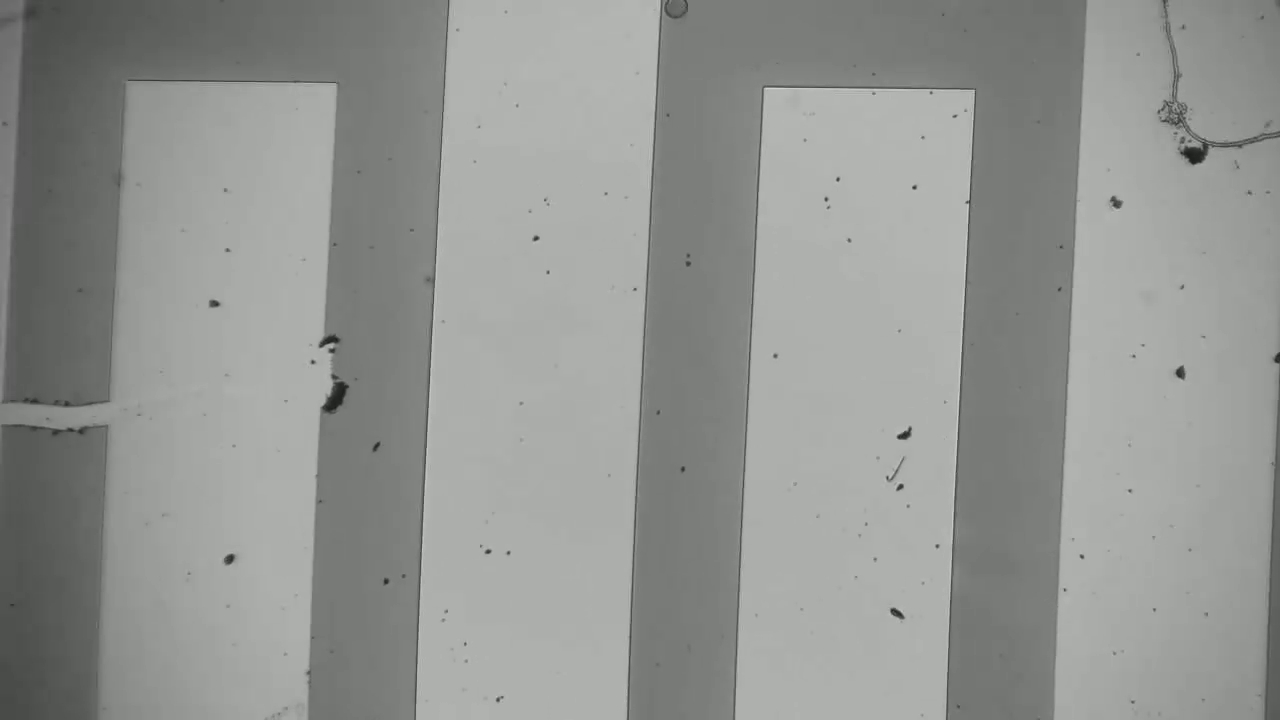Short_circuit: (1, 380, 138, 447)
